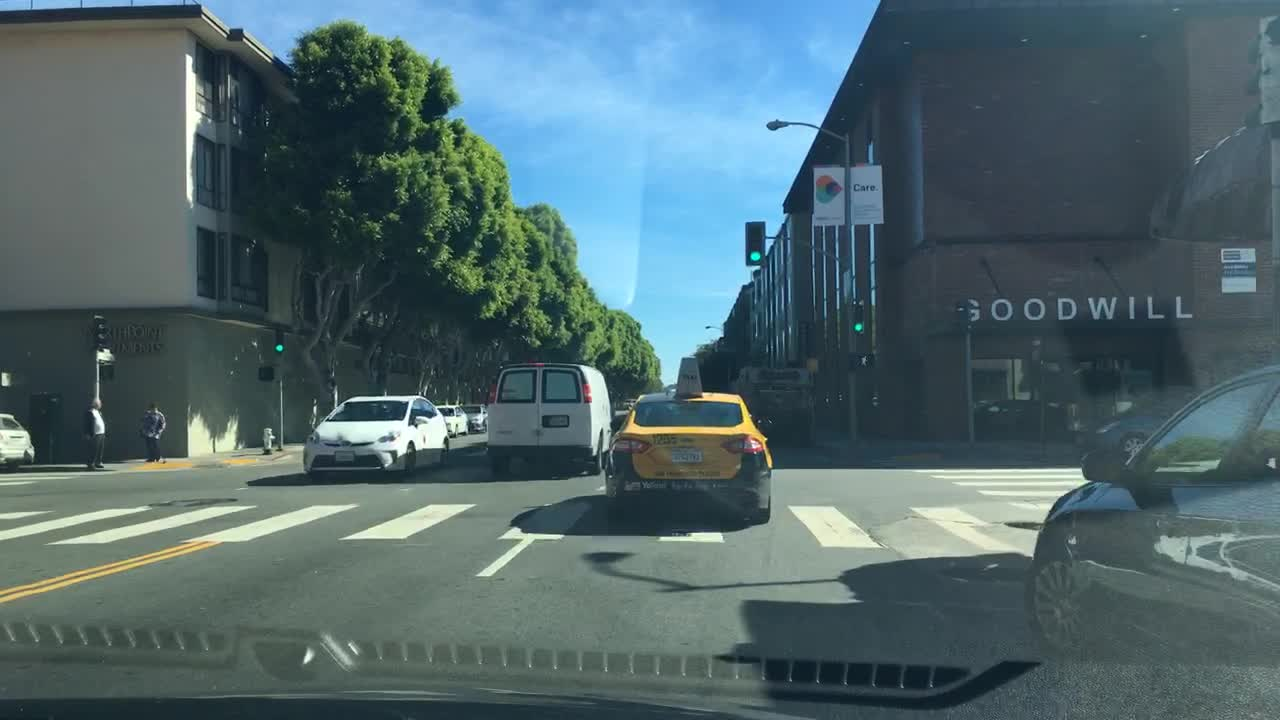car: (1029, 362, 1278, 663), (603, 355, 773, 525), (485, 361, 615, 477), (301, 394, 451, 480), (1081, 387, 1214, 483), (0, 411, 36, 468), (433, 404, 469, 437), (461, 404, 490, 433), (620, 397, 640, 416)
person: (82, 397, 107, 471), (137, 401, 166, 463)
traffic light: (743, 220, 766, 264), (91, 307, 108, 350), (851, 296, 863, 336), (270, 329, 286, 356), (257, 364, 275, 382)
truck: (731, 365, 814, 448)
